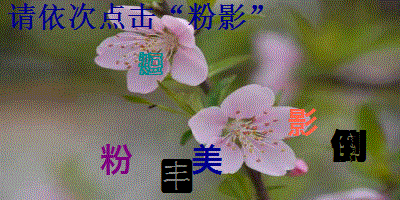text: (329, 128, 368, 163), (160, 158, 194, 194), (190, 143, 224, 176), (100, 144, 133, 176), (286, 107, 318, 138), (138, 50, 164, 76)
